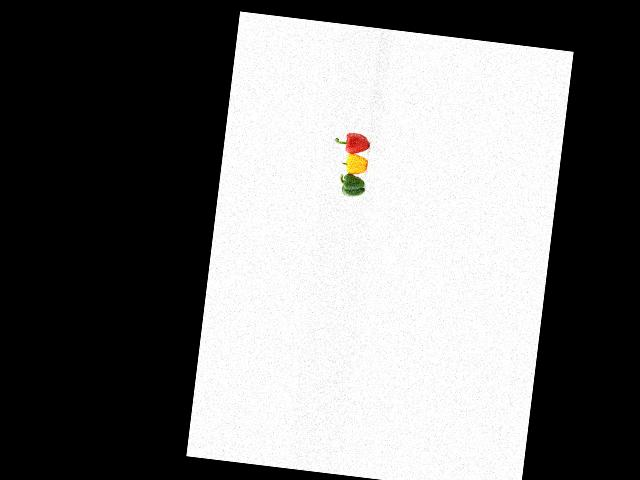bell_pepper: (331, 124, 374, 158)
